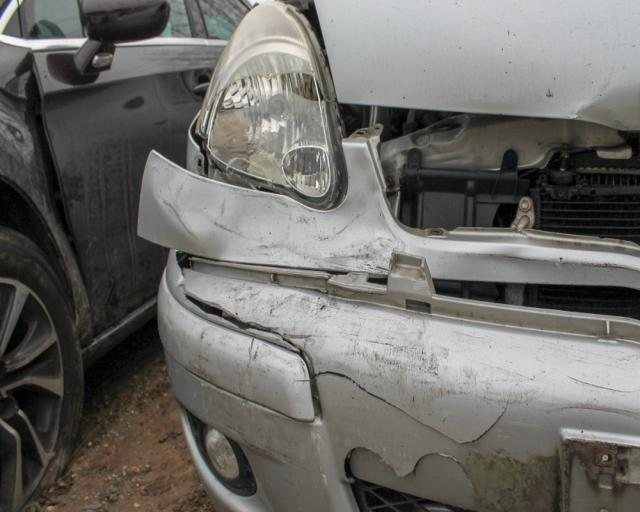crack: (315, 370, 510, 445), (174, 250, 299, 352), (343, 446, 472, 488)
dent: (153, 163, 399, 272)
lamp broken: (198, 0, 344, 205)
scratch: (225, 279, 542, 408), (170, 323, 307, 458)
